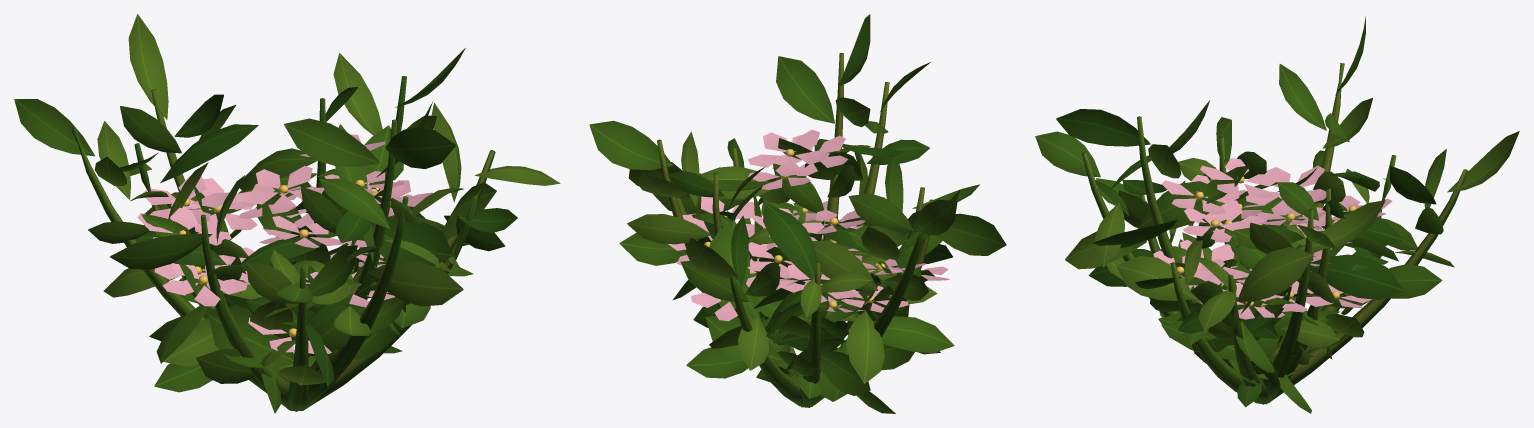
Rendered from Flowering_shrub_1.glb.
3 views of the same model, side by side, from view 1: azimuth 30°, elevation 25°; view 2: azimuth 150°, elevation 25°; view 3: azimuth 270°, elevation 25° (orthographic). The views are drawn at different scales.
Parts seen in each view (by area): view 1: Flowering_shrub_1_Leaves.004, Flowering_shrub_1_Stems.004, Flowering_shrub_1_Flowers.003, Flowering_shrub_1_Centers.003; view 2: Flowering_shrub_1_Leaves.004, Flowering_shrub_1_Flowers.003, Flowering_shrub_1_Stems.004, Flowering_shrub_1_Centers.003; view 3: Flowering_shrub_1_Leaves.004, Flowering_shrub_1_Stems.004, Flowering_shrub_1_Flowers.003, Flowering_shrub_1_Centers.003.
Part boxes in pixels (x1,y1,x2,y2): Flowering_shrub_1_Leaves.004: [14, 14, 560, 413]; Flowering_shrub_1_Stems.004: [71, 76, 495, 411]; Flowering_shrub_1_Flowers.003: [137, 134, 432, 353]; Flowering_shrub_1_Centers.003: [178, 179, 390, 336]; Flowering_shrub_1_Leaves.004: [589, 14, 1006, 413]; Flowering_shrub_1_Flowers.003: [668, 129, 950, 321]; Flowering_shrub_1_Stems.004: [657, 53, 934, 407]; Flowering_shrub_1_Centers.003: [704, 149, 885, 308]; Flowering_shrub_1_Leaves.004: [1035, 16, 1519, 413]; Flowering_shrub_1_Stems.004: [1082, 63, 1468, 404]; Flowering_shrub_1_Flowers.003: [1153, 158, 1392, 319]; Flowering_shrub_1_Centers.003: [1176, 176, 1356, 306].
Size of the model in its own units: 1.46 by 1.05 by 1.49.
Materials: 3 (1 with a texture image).
